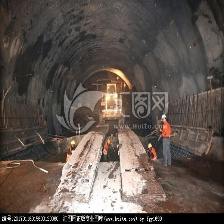no-vest: (160, 123, 172, 140)
person: (159, 113, 173, 168), (147, 142, 159, 164)
